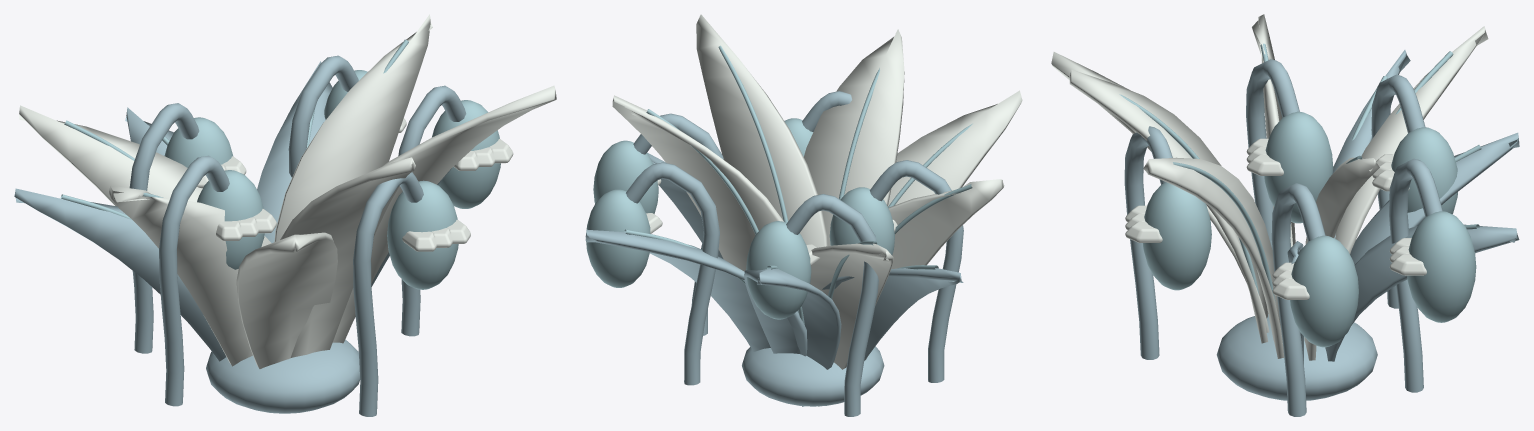
Rendered from bio_mist_leaf_13_near.glb.
3 views of the same model, side by side, from view 1: azimuth 30°, elevation 25°; view 2: azimuth 150°, elevation 25°; view 3: azimuth 270°, elevation 25° (orthographic). The views are drawn at different scales.
Visible parts, largest first — view 1: Cupped condensate leaf.008, Cupped condensate leaf.007, Cupped condensate leaf.004, Root rosette, Cupped condensate leaf.002, Cupped condensate leaf.009, Cupped condensate leaf.001, Cupped condensate leaf.005, Arched fruit stem.004, Arched fruit stem.002, Pendant spore capsule.002, Arched fruit stem.001 (+11 smaller); view 2: Cupped condensate leaf.005, Cupped condensate leaf.002, Cupped condensate leaf.008, Cupped condensate leaf.007, Cupped condensate leaf.003, Root rosette, Cupped condensate leaf.004, Arched fruit stem.003, Cupped condensate leaf.006, Arched fruit stem.001, Cupped condensate leaf.001, Pendant spore capsule.001 (+14 smaller); view 3: Root rosette, Pendant spore capsule.003, Pendant spore capsule, Cupped condensate leaf.005, Pendant spore capsule.002, Cupped condensate leaf.002, Arched fruit stem, Arched fruit stem.003, Pendant spore capsule.004, Cupped condensate leaf.001, Arched fruit stem.002, Cupped condensate leaf.003 (+15 smaller).
Boxes of the visible parts, left/top/right/bottom form: Cupped condensate leaf.008: left=274, top=14, right=432, bottom=242; Cupped condensate leaf.007: left=236, top=232, right=337, bottom=368; Cupped condensate leaf.004: left=108, top=185, right=271, bottom=366; Root rosette: left=206, top=339, right=360, bottom=413; Cupped condensate leaf.002: left=280, top=157, right=415, bottom=357; Cupped condensate leaf.009: left=14, top=188, right=226, bottom=361; Cupped condensate leaf.001: left=19, top=105, right=202, bottom=206; Cupped condensate leaf.005: left=332, top=85, right=556, bottom=343; Arched fruit stem.004: left=159, top=155, right=229, bottom=406; Arched fruit stem.002: left=353, top=172, right=423, bottom=416; Pendant spore capsule.002: left=387, top=180, right=458, bottom=289; Arched fruit stem.001: left=129, top=103, right=199, bottom=353; Cupped condensate leaf.005: left=696, top=14, right=827, bottom=247; Cupped condensate leaf.002: left=804, top=29, right=904, bottom=245; Cupped condensate leaf.008: left=612, top=95, right=783, bottom=271; Cupped condensate leaf.007: left=887, top=90, right=1022, bottom=206; Cupped condensate leaf.003: left=585, top=229, right=807, bottom=356; Root rosette: left=742, top=346, right=884, bottom=406; Cupped condensate leaf.004: left=865, top=179, right=1004, bottom=359; Arched fruit stem.003: left=626, top=162, right=719, bottom=385; Cupped condensate leaf.006: left=744, top=268, right=841, bottom=406; Arched fruit stem.001: left=786, top=194, right=878, bottom=416; Cupped condensate leaf.001: left=810, top=243, right=893, bottom=406; Pendant spore capsule.001: left=746, top=221, right=811, bottom=319; Root rosette: left=1216, top=314, right=1377, bottom=400; Pendant spore capsule.003: left=1407, top=211, right=1476, bottom=322; Pendant spore capsule: left=1290, top=235, right=1358, bottom=347; Cupped condensate leaf.005: left=1143, top=157, right=1284, bottom=358; Pendant spore capsule.002: left=1143, top=182, right=1211, bottom=290; Cupped condensate leaf.002: left=1069, top=69, right=1267, bottom=343; Arched fruit stem: left=1271, top=183, right=1325, bottom=416; Arched fruit stem.003: left=1389, top=158, right=1442, bottom=392; Pendant spore capsule.004: left=1264, top=111, right=1333, bottom=223; Cupped condensate leaf.001: left=1335, top=26, right=1488, bottom=253; Arched fruit stem.002: left=1124, top=126, right=1172, bottom=359; Cupped condensate leaf.003: left=1325, top=224, right=1519, bottom=361.
Bounding box in the file's own units: 1.94 × 1.34 × 1.74.
